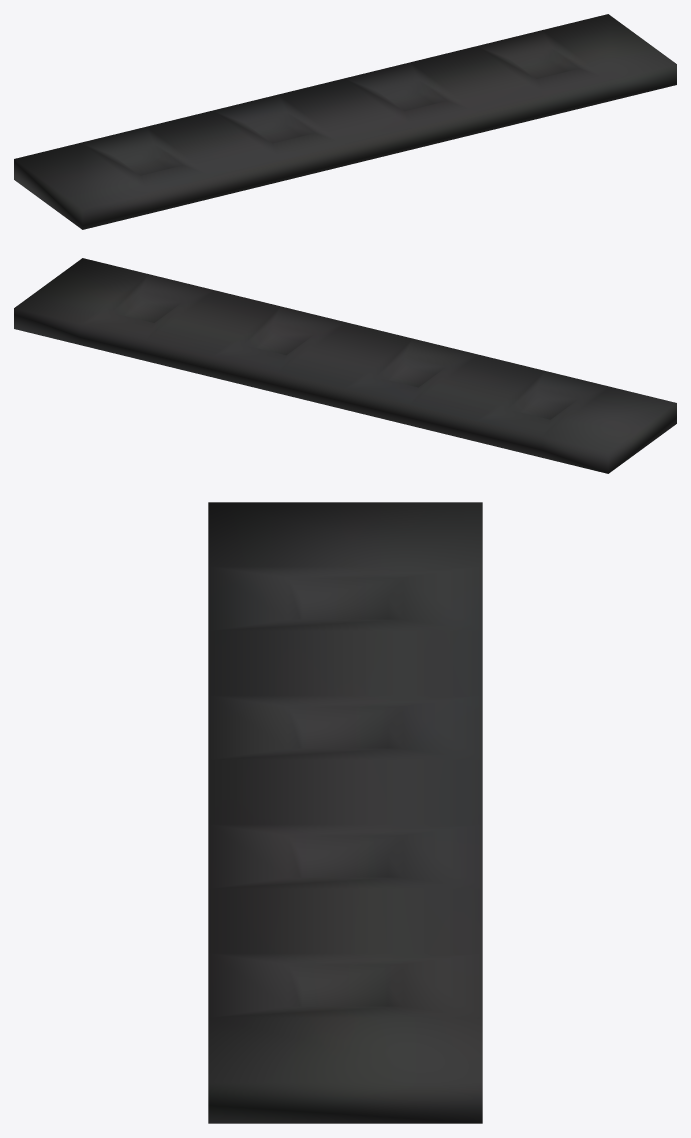
The model's file is Gate_down.glb.
The picture shows the model from 3 angles, top to bottom: view 1: azimuth 30°, elevation 25°; view 2: azimuth 150°, elevation 25°; view 3: azimuth 270°, elevation 25°; orthographic projection. The views are drawn at different scales.
Visible parts, largest first — view 1: Cube; view 2: Cube; view 3: Cube.
Boxes of the visible parts, bbox=[...] form: Cube: bbox=[14, 14, 676, 229]; Cube: bbox=[14, 258, 676, 473]; Cube: bbox=[208, 502, 482, 1123].
Bounding box in the file's own units: 6 × 0.2 × 1.2.
1 material, 1 textured.
